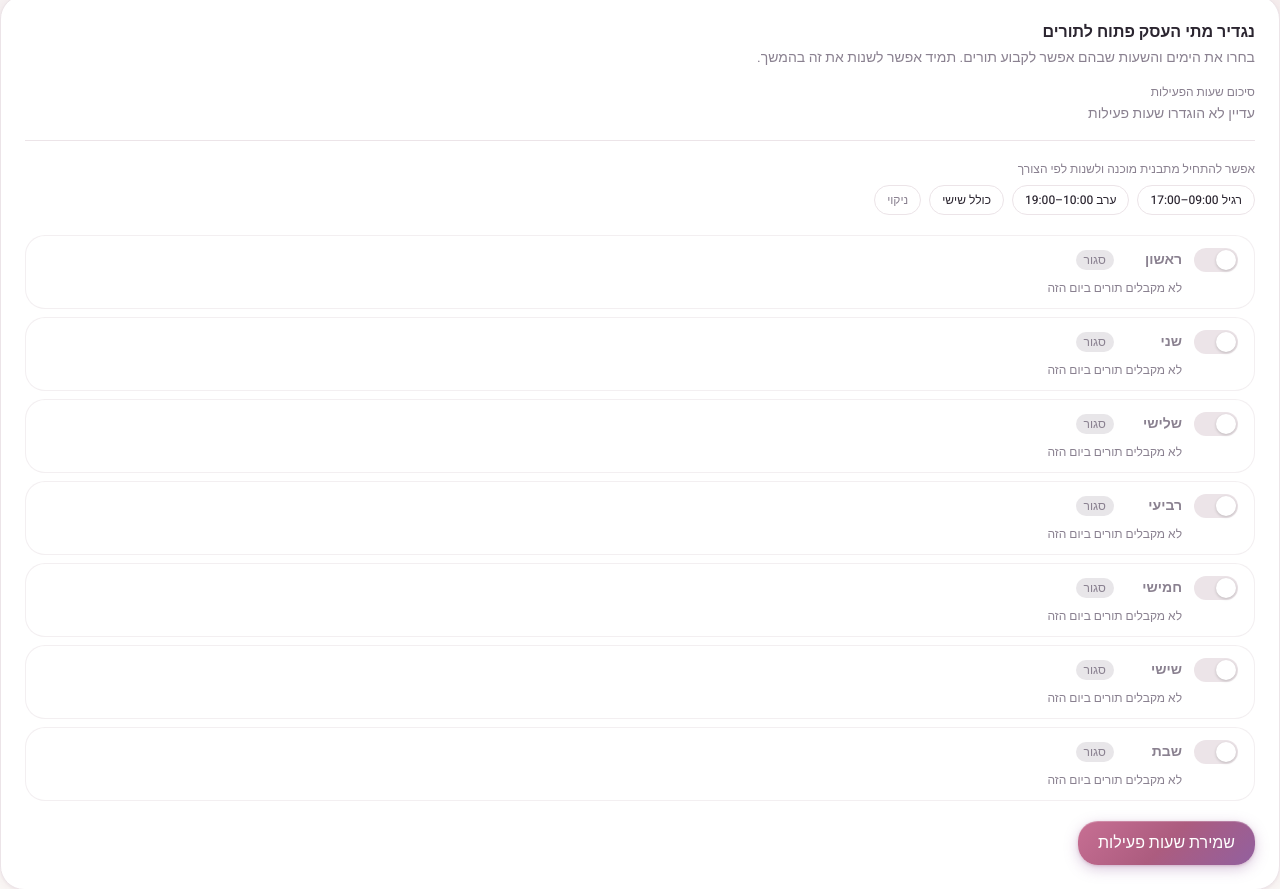
Test case: WeeklyAvailabilityForm › on success shows the success alert and clears the unsaved-changes hint
// Make a change so the dirty hint appears first.
Step 1. Click the switch named "ראשון — סגור" → coordinates (1216, 260), box [1194,248,1238,272]
(page scrolled)
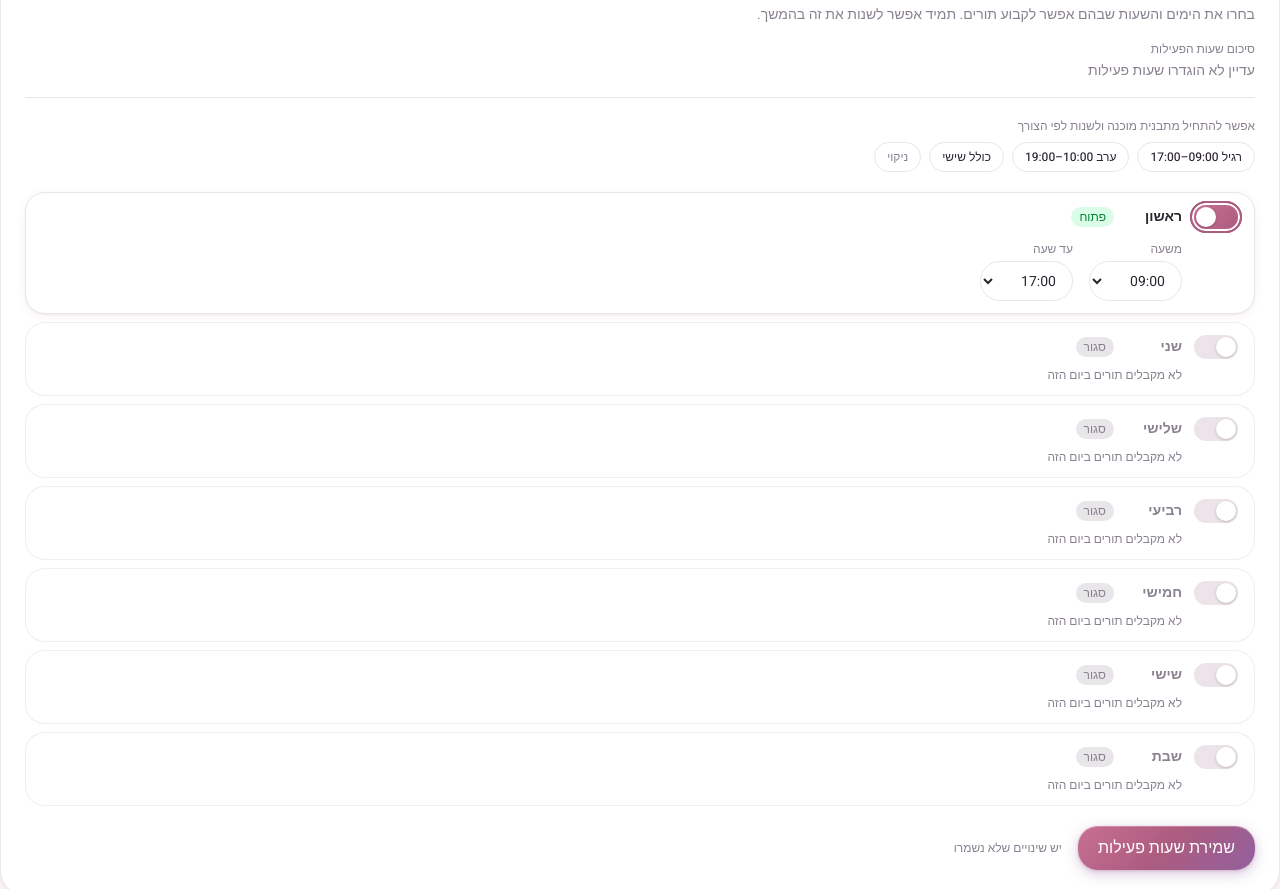
Result: the text "יש שינויים שלא נשמרו" is shown at [954,840,1062,856]
Step 2. Click the button "שמירת שעות פעילות" → coordinates (1166, 848), box [1078,826,1255,870]
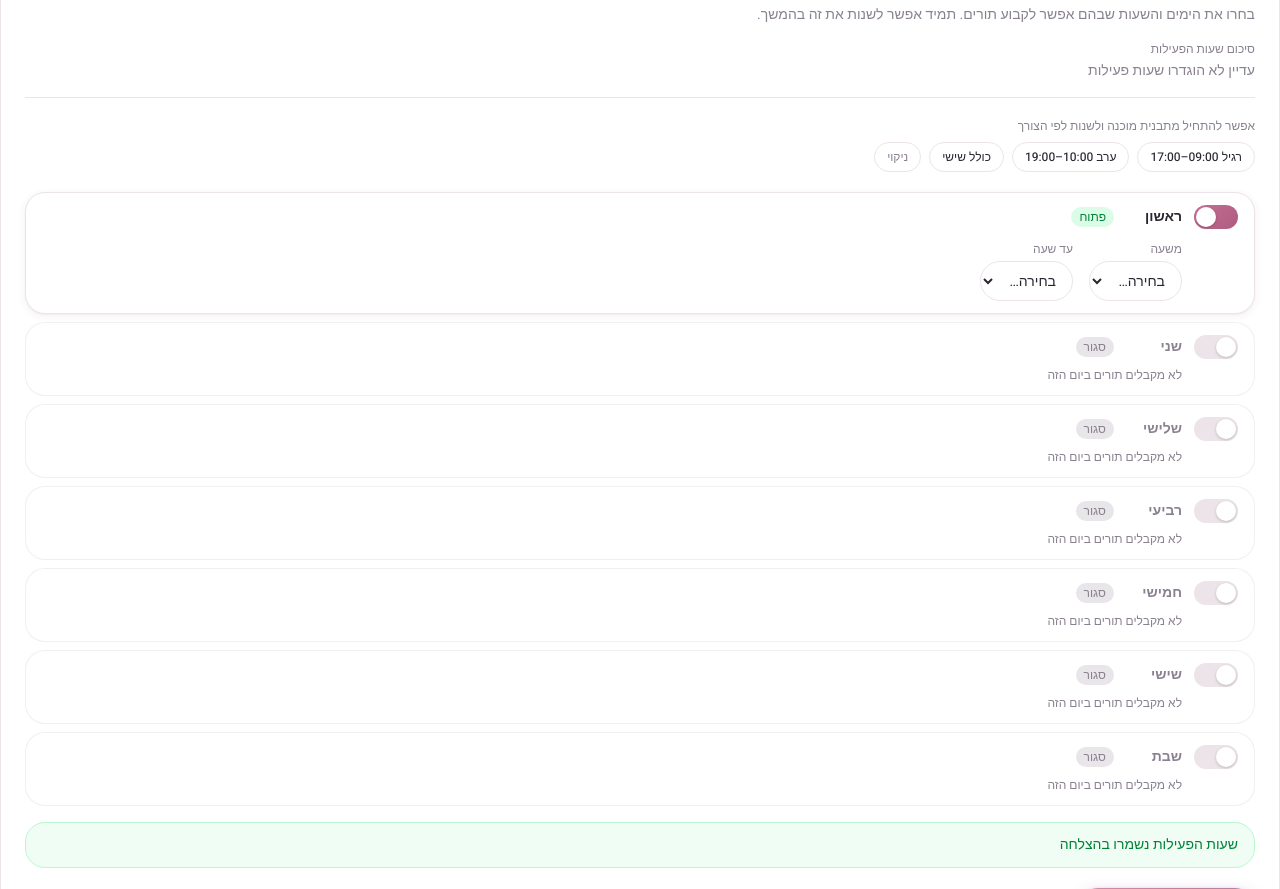
Result: the text "שעות הפעילות נשמרו בהצלחה" is shown at [25,822,1255,868]
Result: the text "יש שינויים שלא נשמרו" is gone
